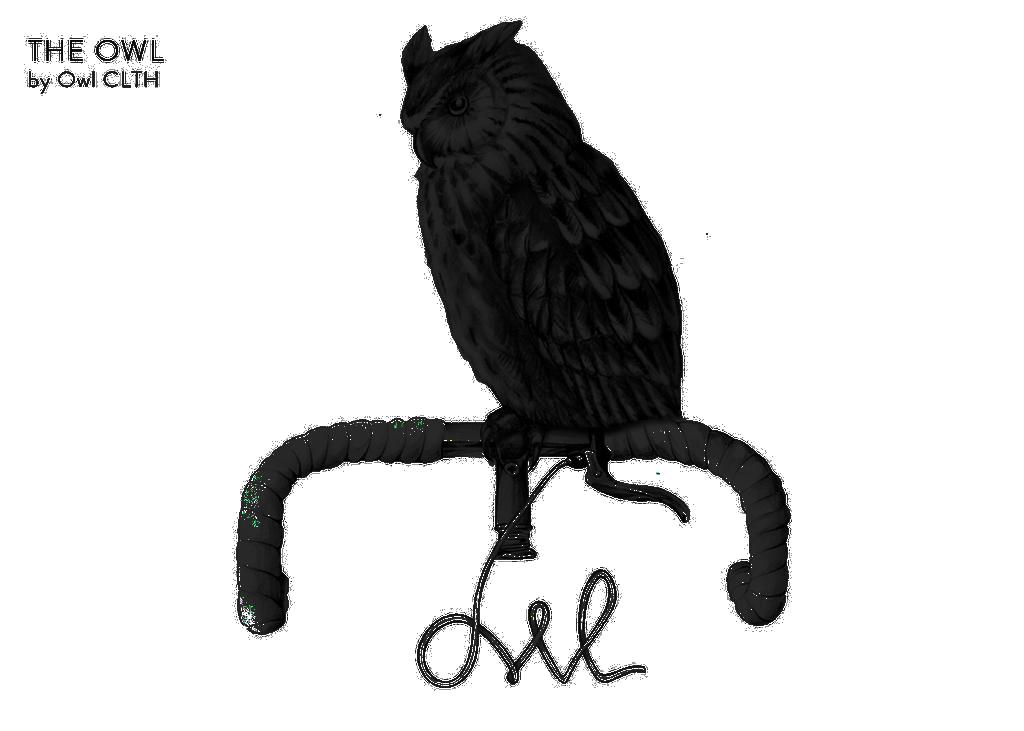Owl: (384, 11, 712, 512)
